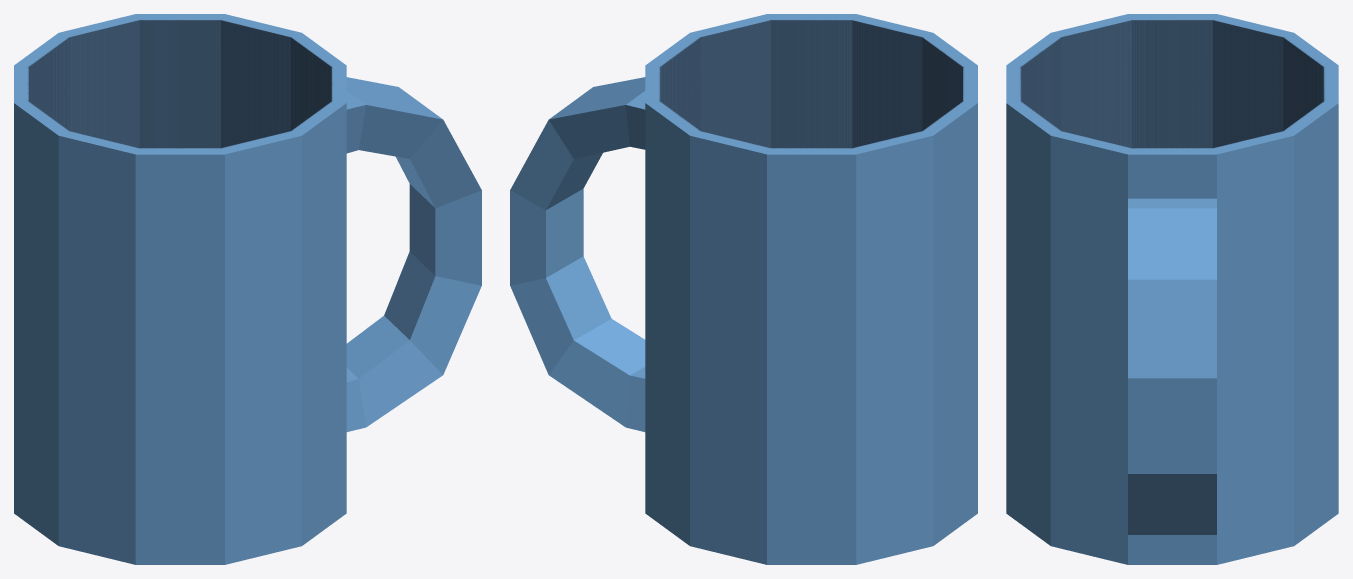
Rendered from Mug_Blue.fbx.
The picture shows the model from 3 angles, left to right: view 1: azimuth 30°, elevation 25°; view 2: azimuth 150°, elevation 25°; view 3: azimuth 270°, elevation 25°; orthographic projection.
Visible parts, largest first — view 1: Mug.002; view 2: Mug.002; view 3: Mug.002.
Boxes of the visible parts, x1,y1,x2,y2 form: Mug.002: (14, 14, 481, 564); Mug.002: (510, 14, 977, 564); Mug.002: (1006, 14, 1338, 564).
Bounding box in the file's own units: 10.79 × 10 × 7.34.
